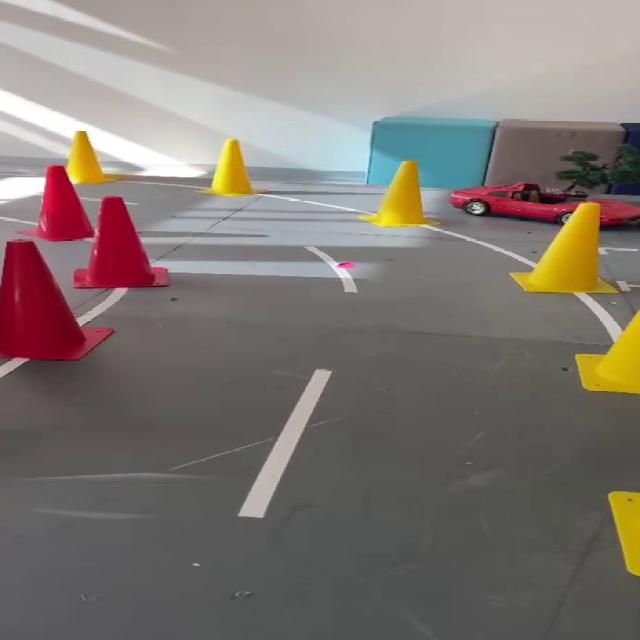Cone-red: (0, 240, 113, 359), (73, 197, 168, 288), (30, 165, 92, 242)
Cones-yellow: (512, 202, 619, 294), (575, 312, 639, 394), (360, 161, 430, 226), (66, 131, 128, 183), (206, 139, 251, 196), (610, 493, 639, 576)
